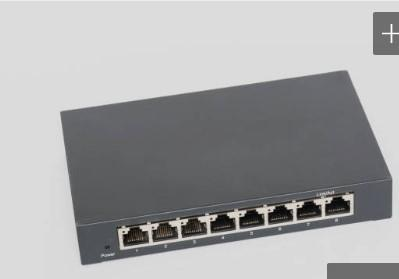NetworkSwitch: (59, 70, 391, 267)
